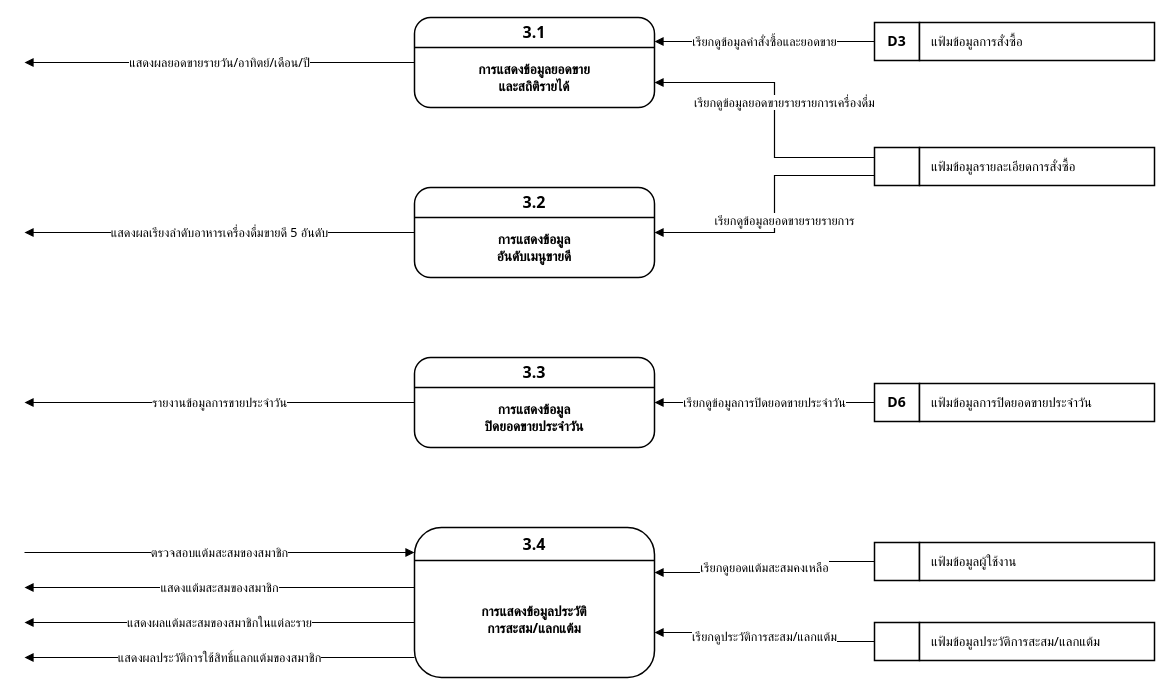
This 1173x696 diagram has some shape labels left out. Each missing label, with the centre of its shape:
"D1" belongs at (x=896, y=561).
"D4" belongs at (x=896, y=166).
"D5" belongs at (x=896, y=641).
